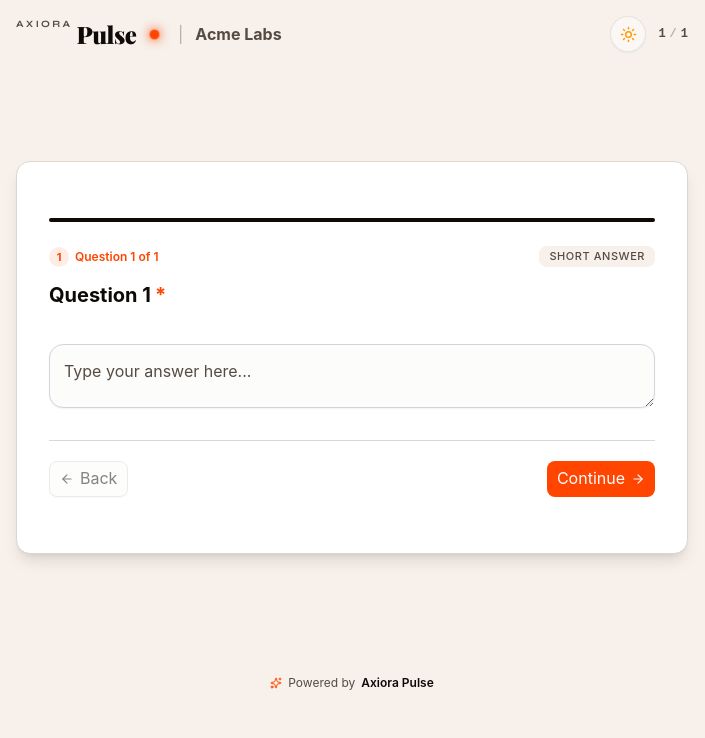
Test: PublicSurveyPage › shows an error when submitting without filling in full name and email
The width and height of the screenshot is (705, 738).
Type "My Answer" into the text box with placeholder "Type your answer here...".
click(352, 376); type("My Answer")  # box [49, 344, 655, 408]
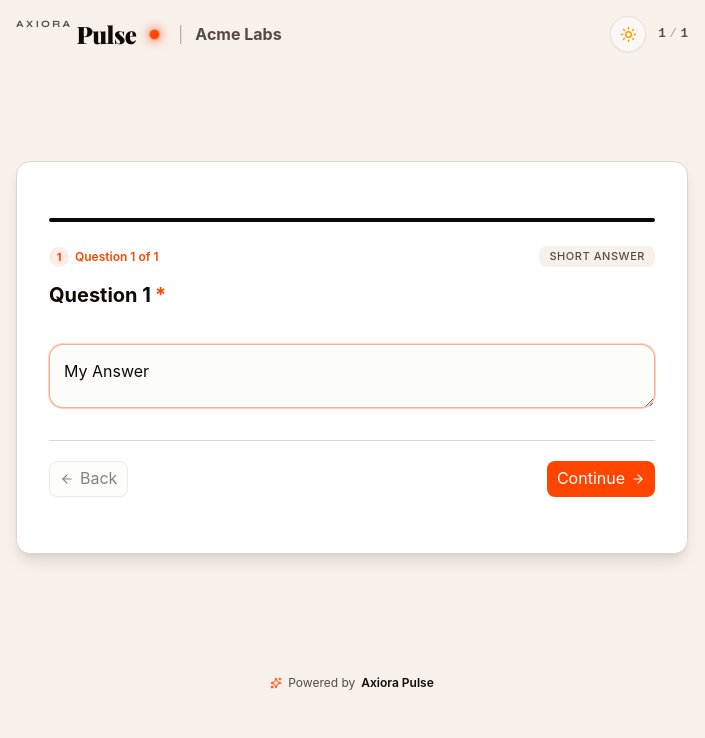
Click the button "Continue".
click(601, 479)  # box [547, 461, 655, 497]
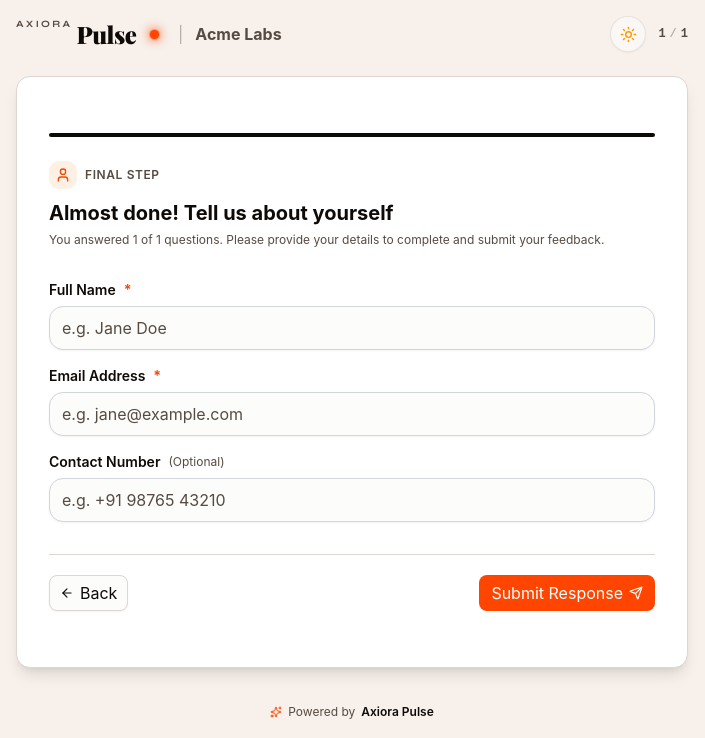
Expected: the text "Please enter your full name." is not shown
Expected: the field labelled "Full Name *" is shown, [49, 306, 655, 350]
// Click submit without entering name or email
Click the button "Submit Response".
click(567, 593)  # box [479, 575, 655, 611]
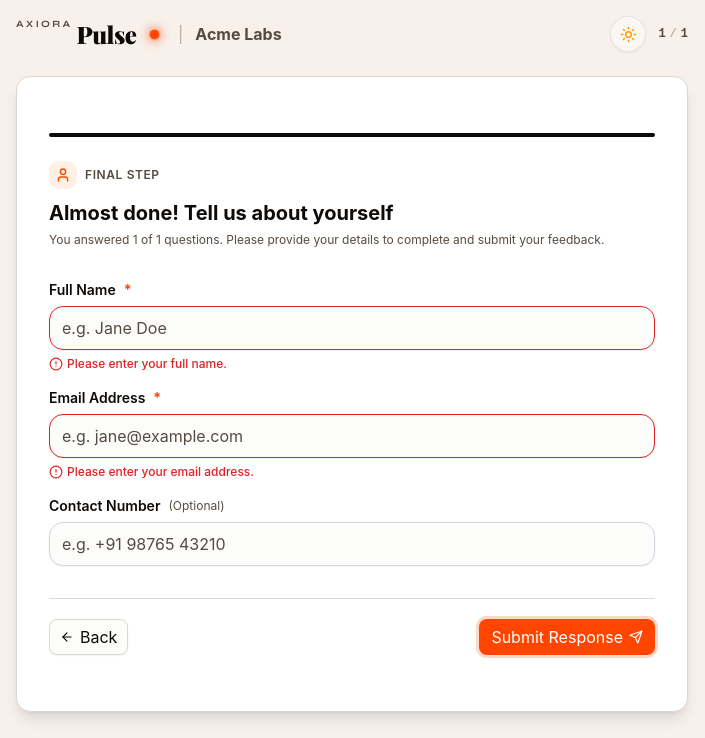
Expected: the text "Please enter your full name." is shown, [49, 356, 227, 371]
Expected: the text "Please enter your email address." is shown, [49, 464, 254, 479]
